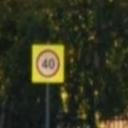speed_limit_40: (36, 49, 60, 78)
